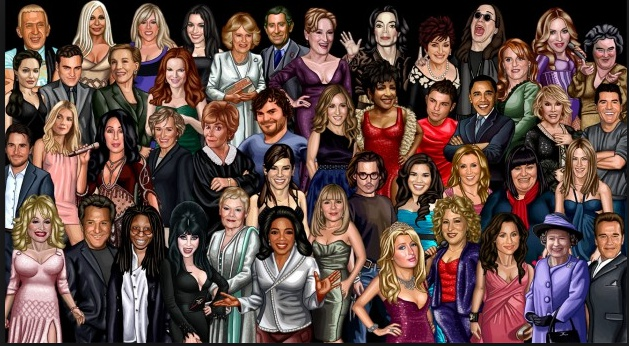bad: (261, 222, 297, 258), (77, 214, 113, 250), (17, 14, 53, 50), (465, 82, 501, 118), (349, 162, 385, 198), (365, 14, 401, 50), (245, 98, 281, 134), (505, 158, 541, 194), (121, 222, 157, 258), (589, 226, 625, 262), (497, 50, 533, 86), (261, 158, 297, 194), (401, 166, 437, 202), (21, 210, 57, 246), (313, 194, 349, 230)
